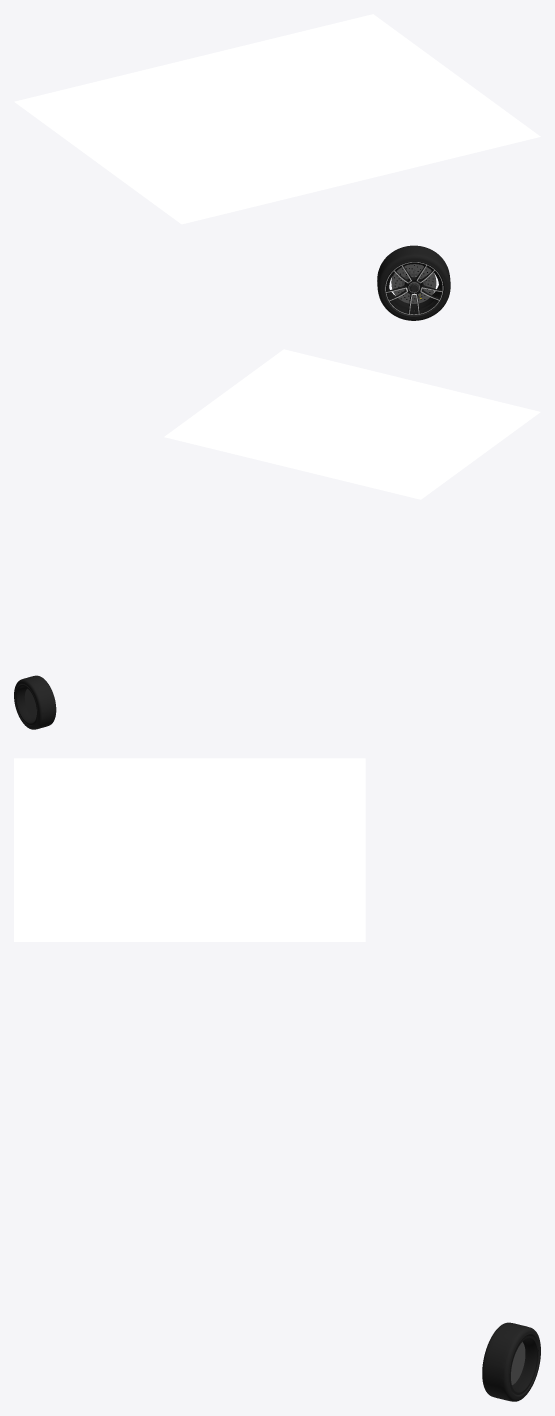
Rendered from maybe_broken_wheel.glb.
3 renders of one model, top to bottom at view 1: azimuth 30°, elevation 25°; view 2: azimuth 150°, elevation 25°; view 3: azimuth 270°, elevation 25°, orthographic. The views are drawn at different scales.
Parts seen in each view (by area): view 1: Object_6, wheel_front_right.001; view 2: Object_6, wheel_front_right.001; view 3: Object_6, wheel_front_right.001.
Boxes of the visible parts, x1,y1,x2,y2 form: Object_6: (14, 14, 540, 224); wheel_front_right.001: (377, 245, 450, 320); Object_6: (164, 349, 540, 499); wheel_front_right.001: (14, 675, 56, 729); Object_6: (14, 758, 365, 941); wheel_front_right.001: (482, 1322, 540, 1401).
Size of what is drawn, in the model's own units: 3.78 by 2.74 by 3.28.
Materials: 14 (2 with a texture image).
